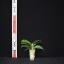leaf: (33, 45, 44, 52), (20, 42, 32, 48), (32, 40, 42, 47), (32, 42, 42, 48), (21, 45, 32, 50), (21, 40, 32, 45), (24, 44, 32, 49), (32, 40, 36, 45), (33, 48, 43, 50), (25, 48, 31, 51)
